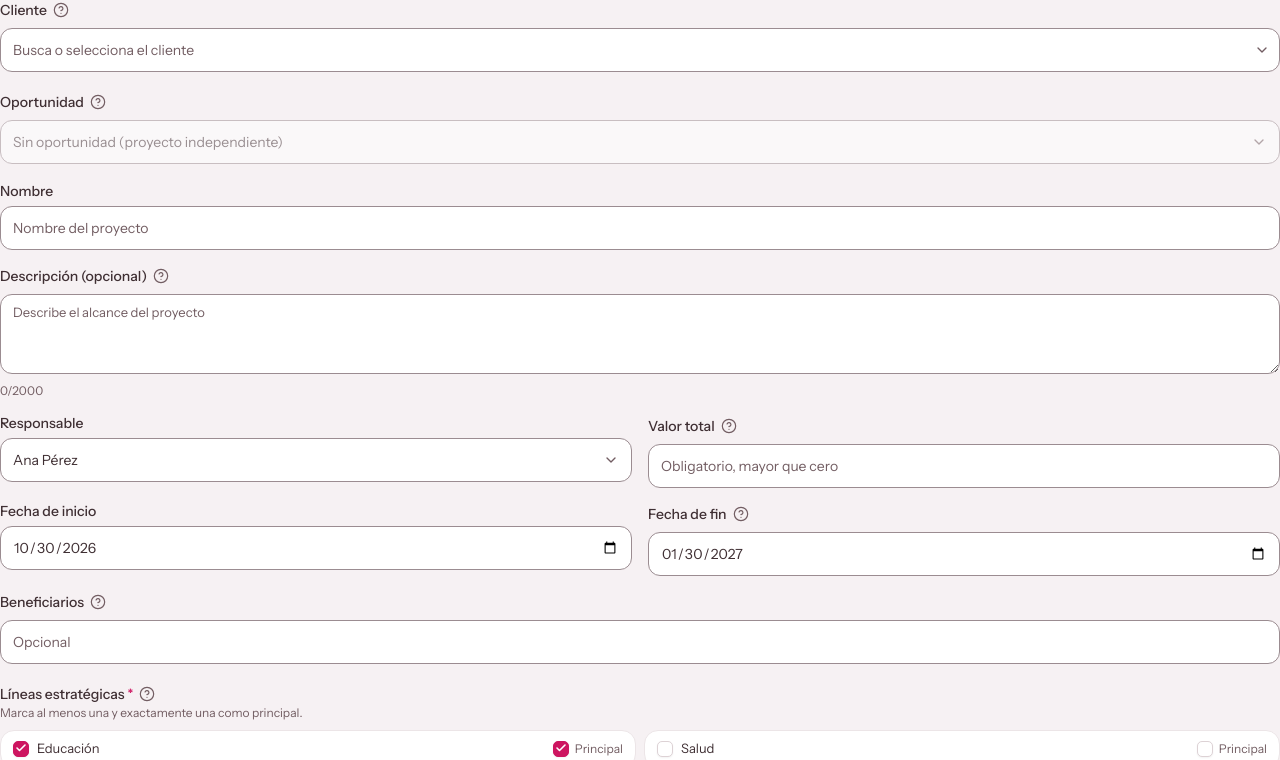
it: ProjectCreateForm › says so when the client has no eligible opportunity
Click the dropdown labelled "Cliente" at (640, 50), box [0,28,1279,72]
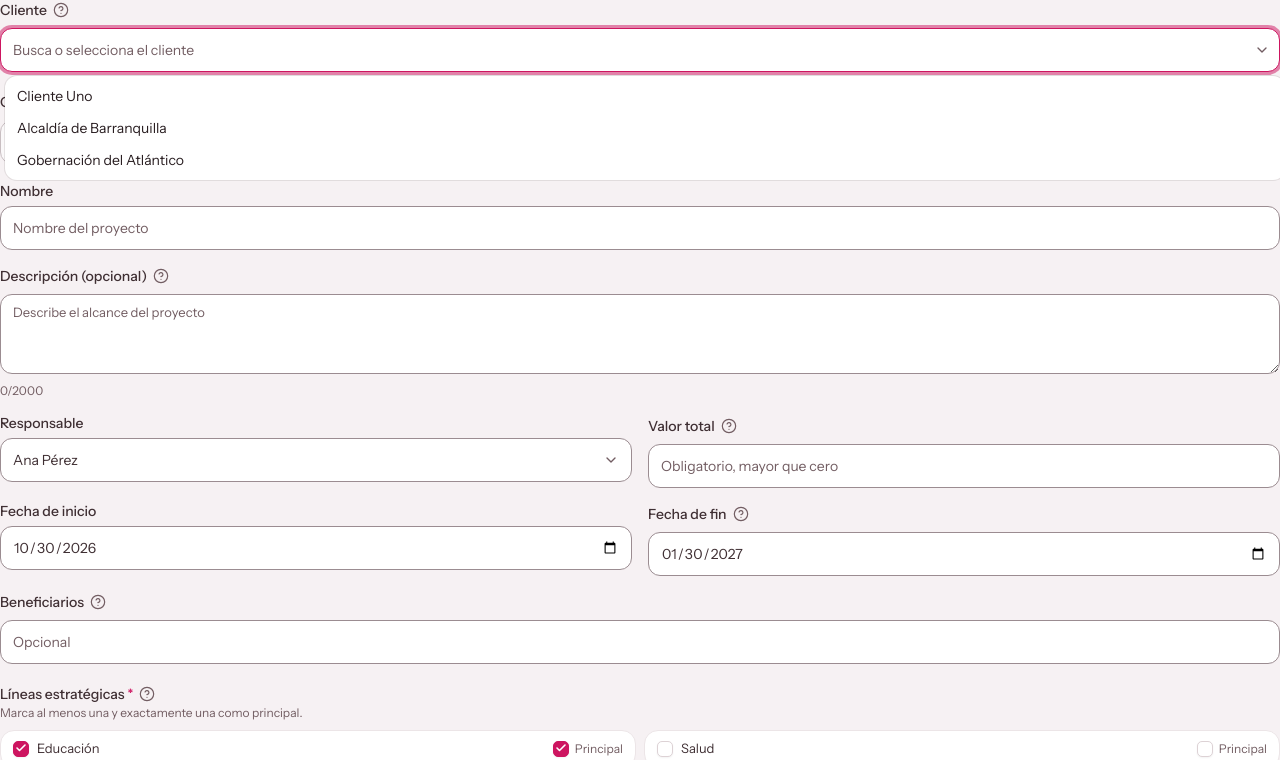
Click the option "Cliente Uno" at (55, 96), box [17,87,92,105]
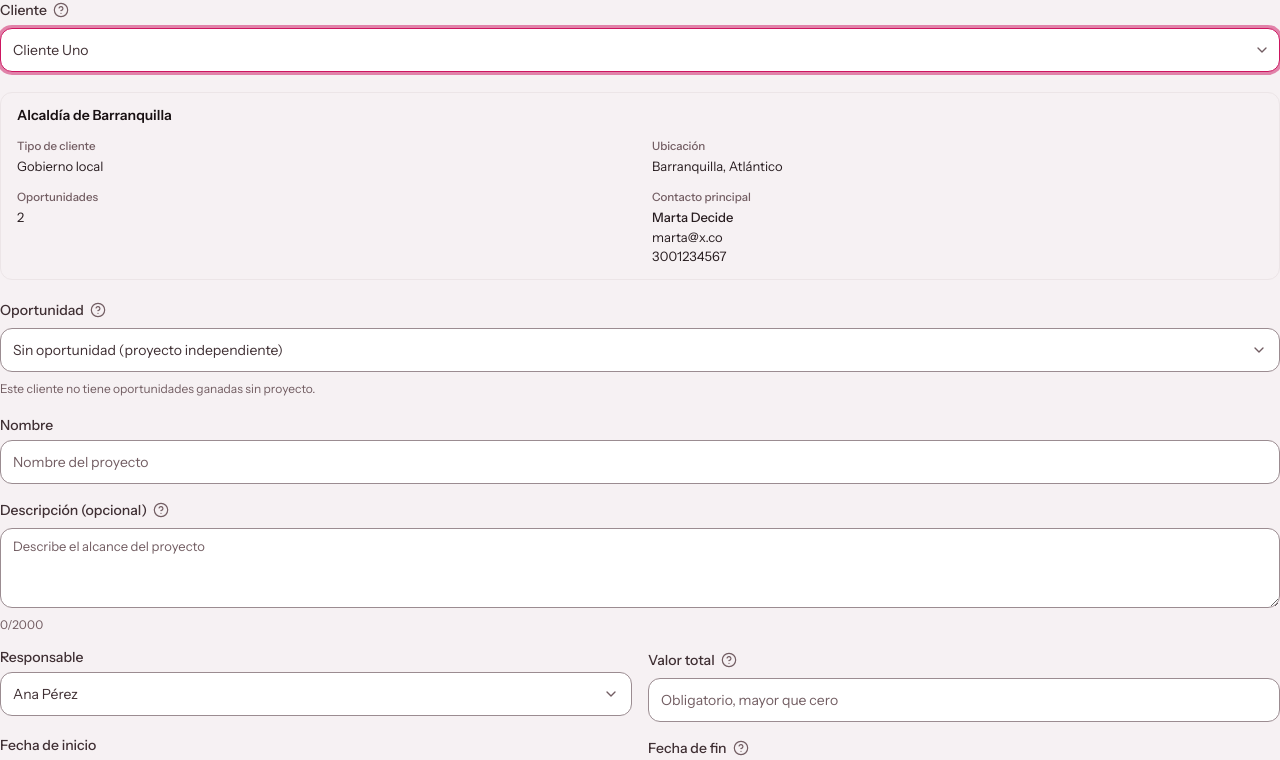
Expected: the text "Este cliente no tiene oportunidades ganadas sin proyecto." is shown, [0,380,315,396]
